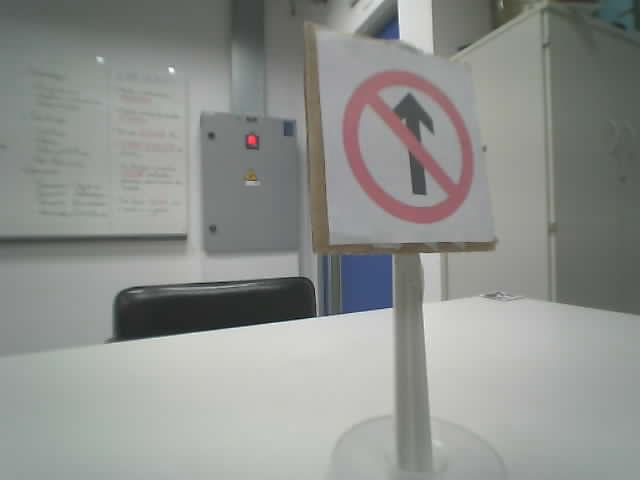R-3_sentido-proibido: (341, 68, 475, 222)
